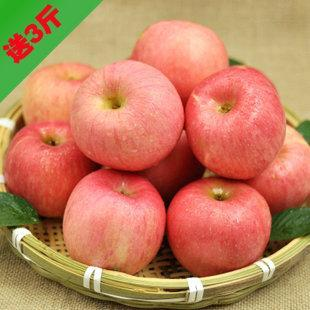apple: (72, 58, 184, 172), (185, 65, 287, 181), (61, 169, 168, 275), (165, 176, 272, 278), (2, 116, 97, 218), (126, 17, 229, 101)
